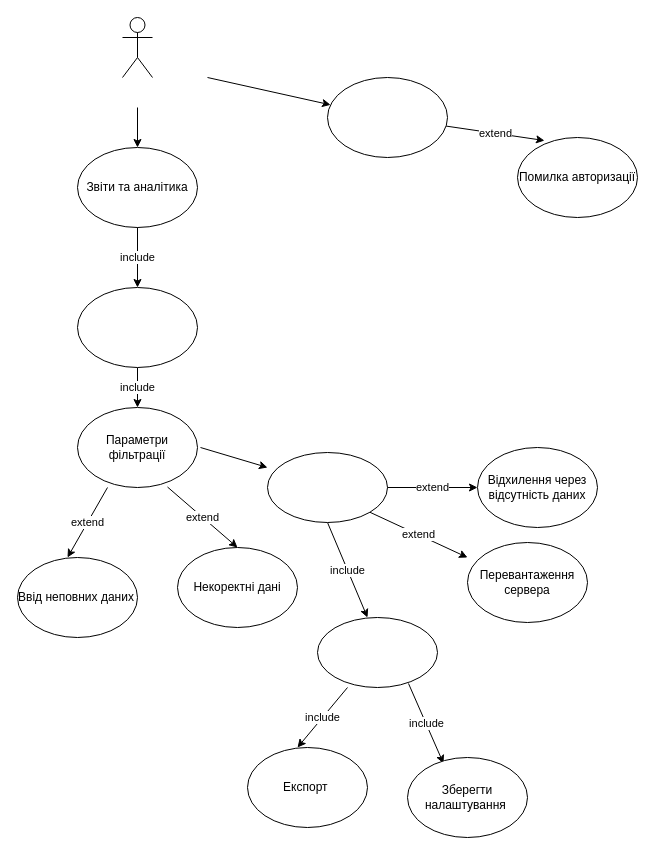
The diagram is 655 pixels wide and 855 high, and some of its shapes have lost their labels. Here are the shapes that lost their labels. From the top down, the centre of each, then its label:
point 137,47: Користувач
point 387,117: Авторизація
point 137,327: Введення даних та вибір типу
point 327,487: Генерація звіту
point 377,652: Перегляд додаткової інформації
